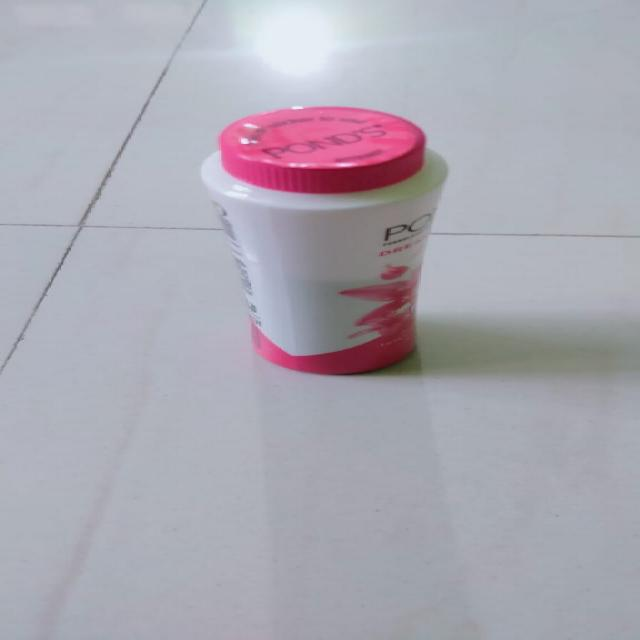powder: (219, 96, 453, 376)
